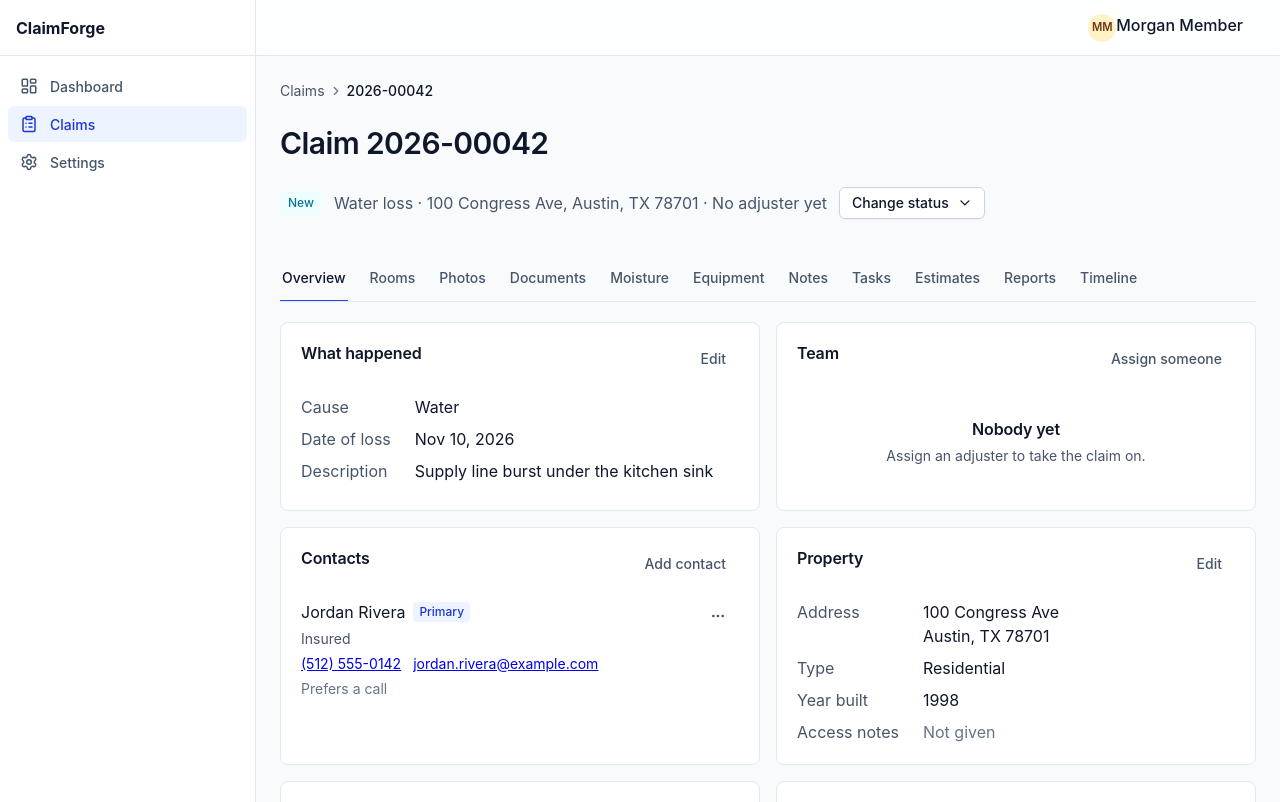
Test case: changing the status › a move that needs no reason happens at once, and is announced
This screenshot has width=1280, height=802.
Click the button "Change status": (912, 202) x1=839 y1=186 x2=986 y2=218
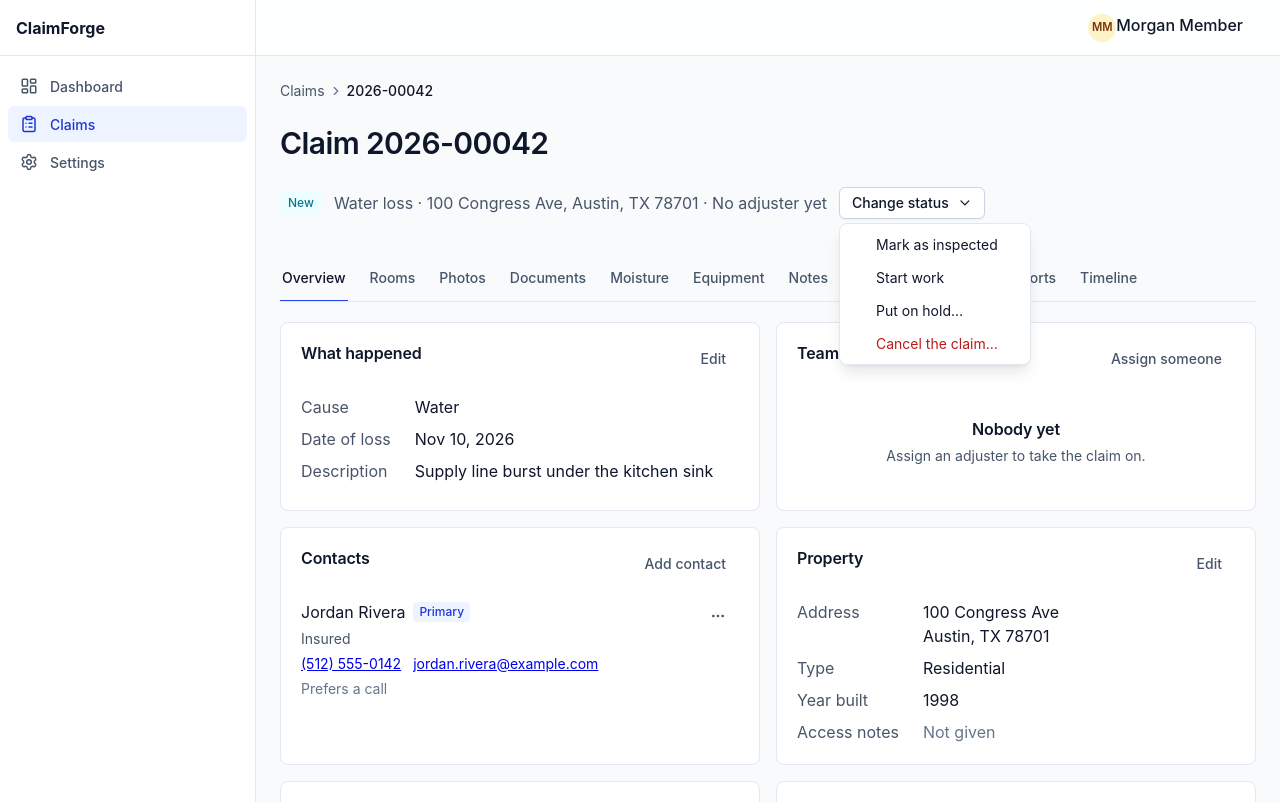
Click the menu item "Mark as inspected": (937, 244) x1=876 y1=236 x2=998 y2=253
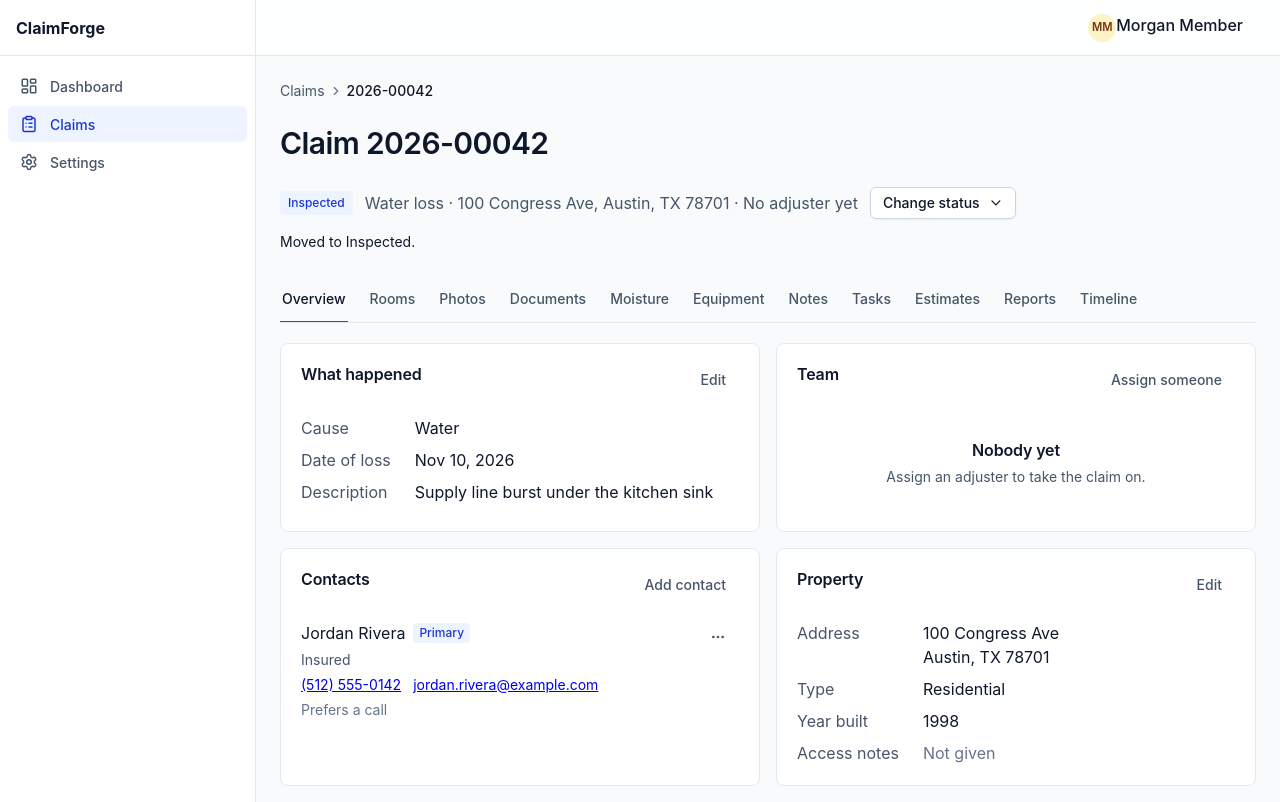
Check: the message reads "Moved to Inspected.", box x1=280 y1=232 x2=415 y2=250
Check: the text "Inspected" is shown, box x1=280 y1=190 x2=353 y2=214
Click the button "Change status": (943, 202) x1=870 y1=186 x2=1016 y2=218
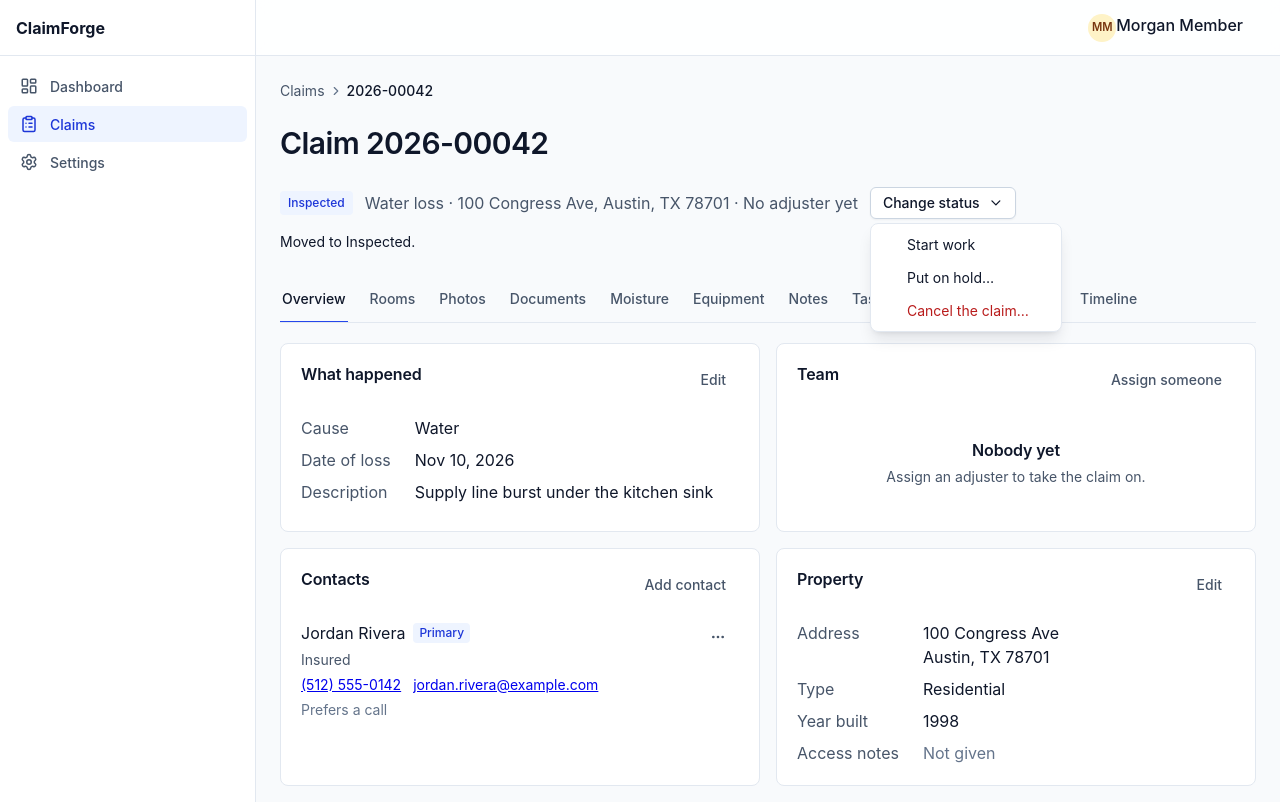
Check: the menu item "Mark as inspected" is not shown
Check: the menu item "Start work" is shown, box x1=907 y1=236 x2=975 y2=253
